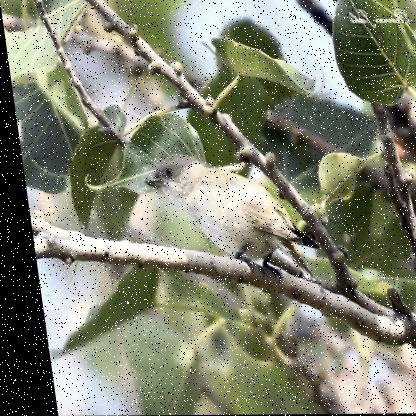Burung: (134, 153, 313, 293)
